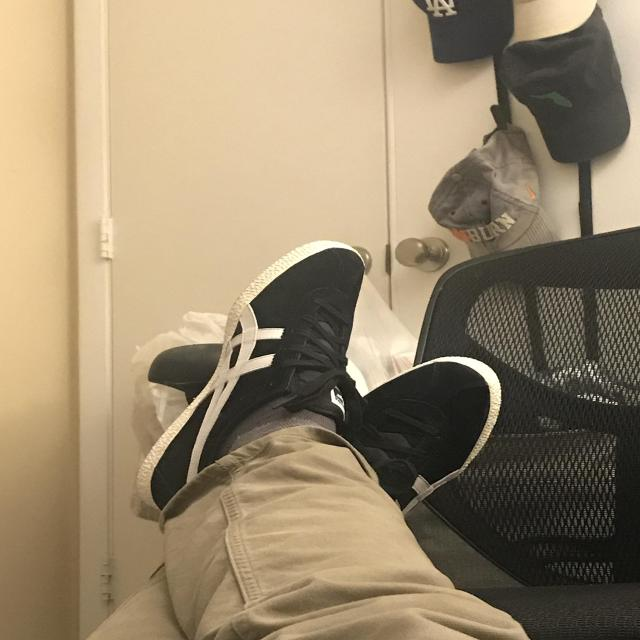shoe: (147, 192, 385, 571), (333, 344, 519, 528)
